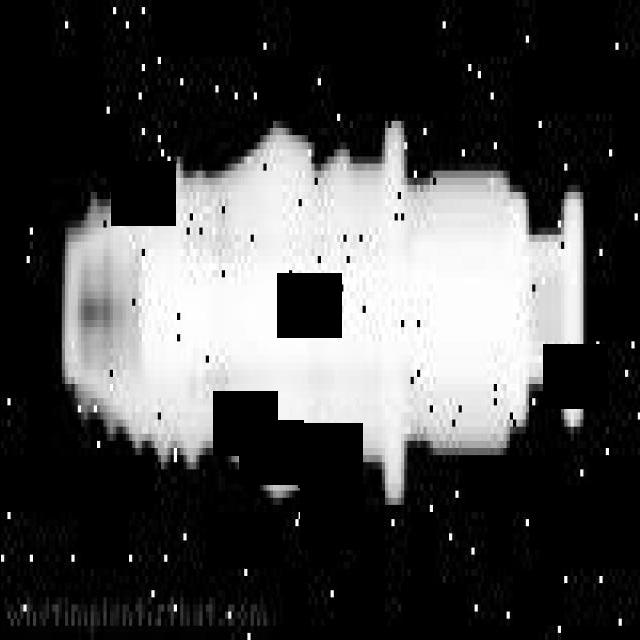Titan Implant Implant: (57, 111, 585, 510)
